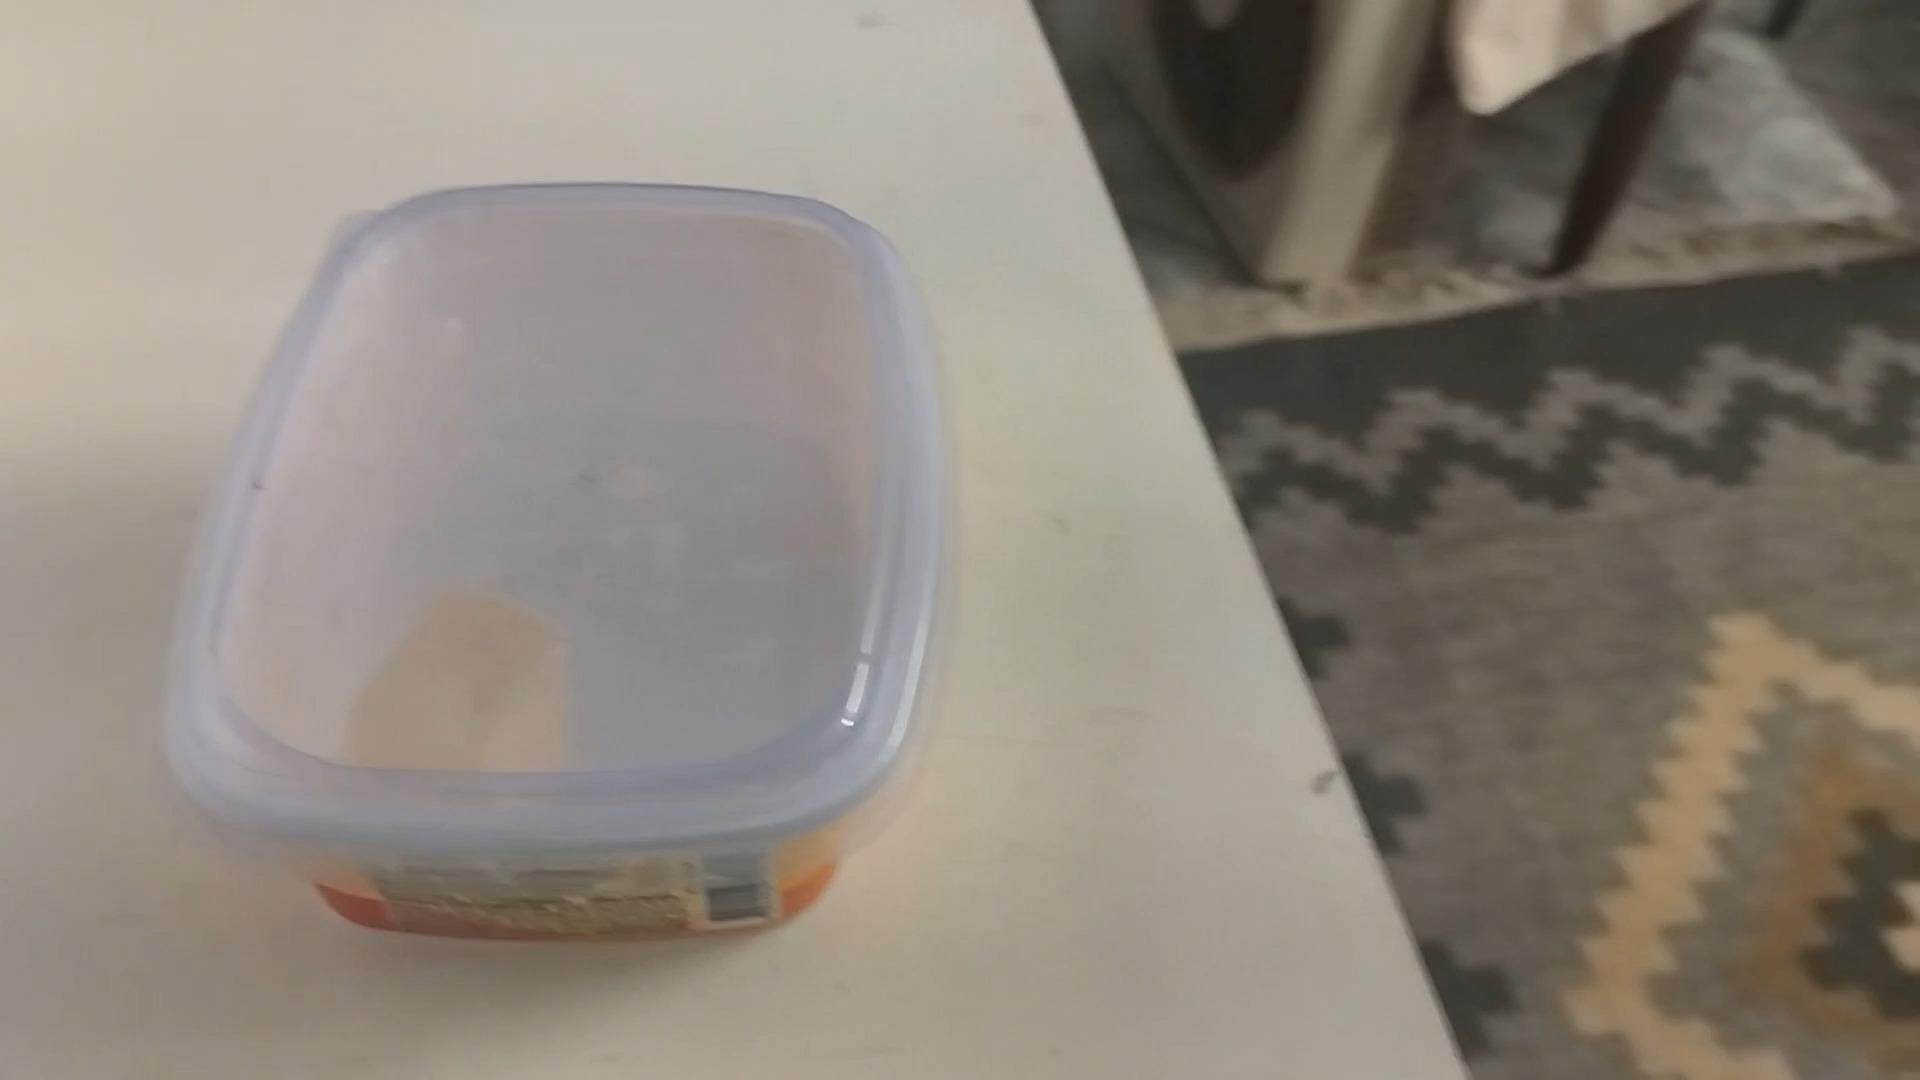butter: (169, 194, 943, 948)
